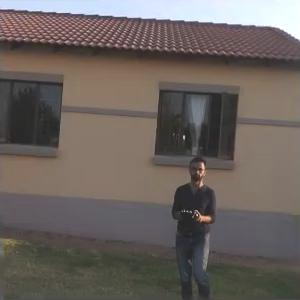follow: (166, 148, 219, 298)
